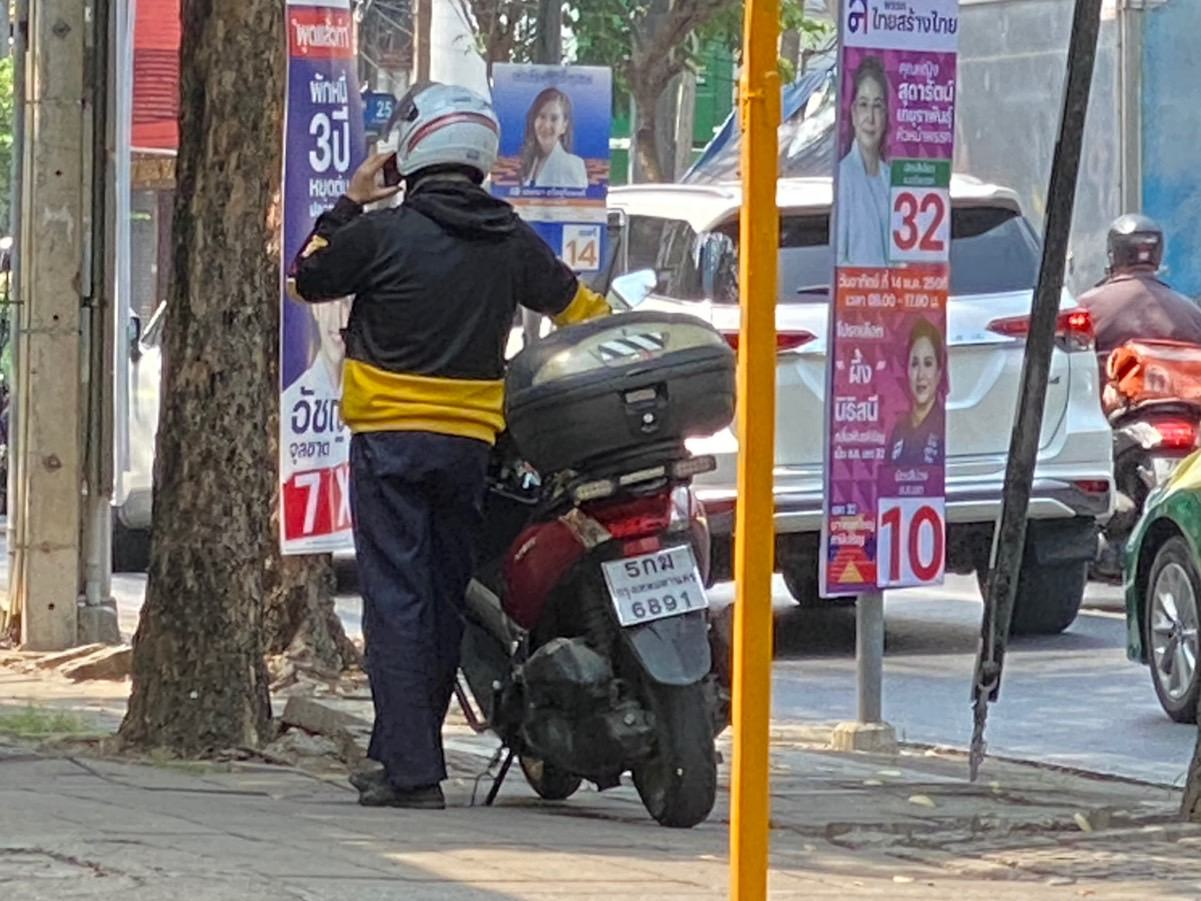Banner: (819, 0, 946, 598), (283, 3, 365, 554), (490, 59, 613, 267)
